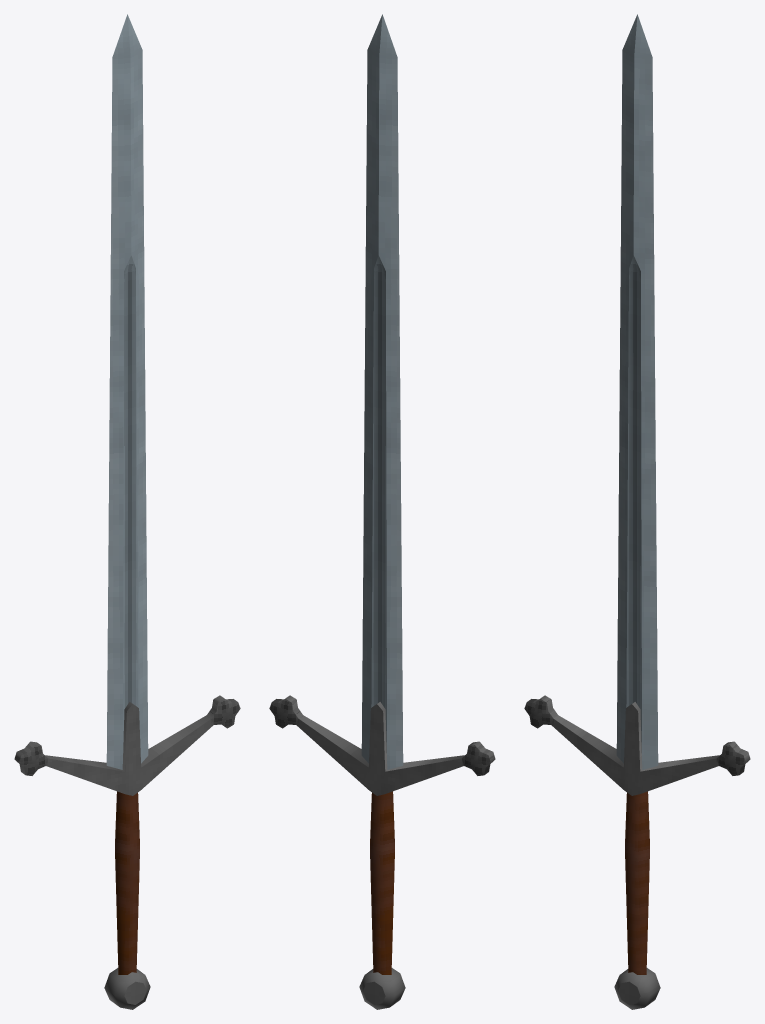
Rendered from claymore.glb.
3 views of the same model, side by side, from view 1: azimuth 30°, elevation 25°; view 2: azimuth 150°, elevation 25°; view 3: azimuth 330°, elevation 25° (orthographic).
Visible parts, largest first — view 1: claymore; view 2: claymore; view 3: claymore.
Part boxes in pixels (<box>): claymore: <box>14,14,240,1009</box>; claymore: <box>269,14,495,1009</box>; claymore: <box>524,14,750,1009</box>.
Bounding box in the file's own units: 0.3742 × 1.6 × 0.0475.
1 material, 1 textured.
